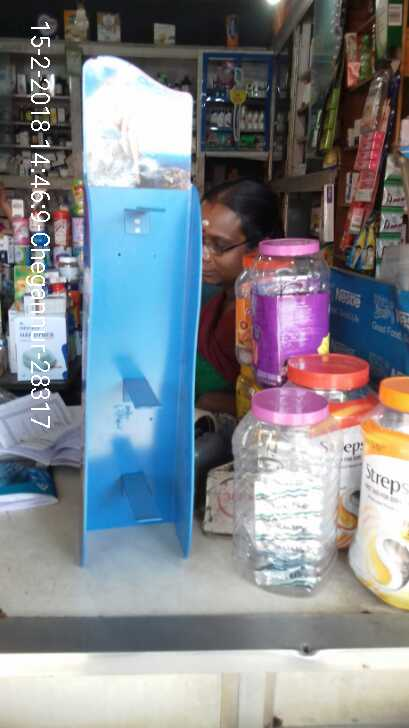reject: (92, 230, 179, 320)
